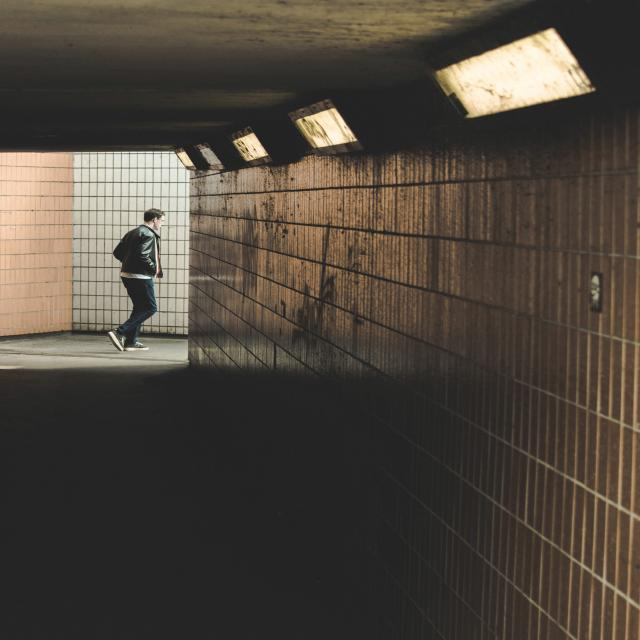adult: (104, 207, 170, 352)
